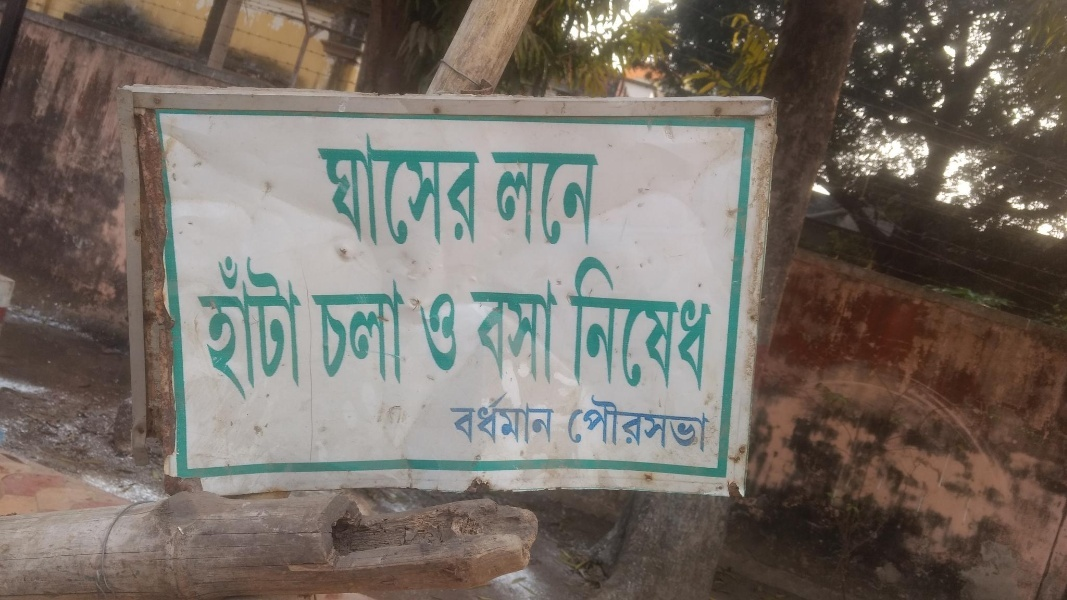text: (193, 250, 208, 402), (209, 250, 224, 402), (225, 250, 240, 402), (241, 250, 256, 402), (257, 250, 272, 402), (273, 250, 288, 402), (289, 250, 304, 402), (577, 254, 592, 393), (593, 254, 608, 393), (609, 254, 624, 393), (625, 254, 640, 393), (641, 254, 656, 393), (657, 254, 672, 393), (673, 254, 688, 393), (689, 254, 704, 393), (705, 254, 718, 393), (321, 132, 336, 250), (337, 132, 352, 250), (353, 132, 368, 250), (369, 132, 384, 250), (385, 132, 400, 250), (401, 132, 416, 250), (417, 132, 432, 250), (433, 132, 448, 250), (449, 132, 464, 250), (465, 132, 480, 250), (321, 277, 336, 385), (337, 277, 352, 385), (353, 277, 368, 385), (369, 277, 384, 385), (385, 277, 400, 385), (481, 278, 496, 386), (497, 278, 512, 386), (513, 278, 528, 386), (529, 278, 544, 386), (545, 278, 560, 386), (497, 148, 512, 248), (513, 148, 528, 248), (529, 148, 544, 248), (545, 148, 560, 248), (561, 148, 576, 248), (577, 148, 592, 248), (433, 287, 448, 373), (567, 254, 576, 393), (401, 277, 412, 385), (449, 287, 462, 373), (420, 287, 432, 373), (311, 277, 320, 385), (471, 278, 480, 386), (577, 392, 592, 455), (593, 392, 608, 455), (609, 392, 624, 455), (625, 392, 640, 455), (641, 392, 656, 455), (657, 392, 672, 455), (673, 392, 688, 455), (689, 392, 704, 455), (465, 389, 480, 446), (481, 389, 496, 446), (497, 389, 512, 446), (513, 389, 528, 446), (529, 389, 544, 446), (593, 148, 601, 248), (450, 389, 464, 446), (545, 389, 558, 446), (565, 392, 576, 455), (305, 250, 309, 402), (705, 392, 714, 455), (316, 132, 320, 250), (481, 132, 485, 250), (492, 148, 496, 248), (561, 278, 562, 386)
